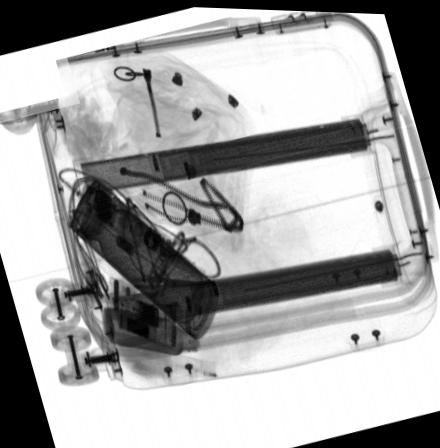Scissors: (114, 257, 217, 308)
